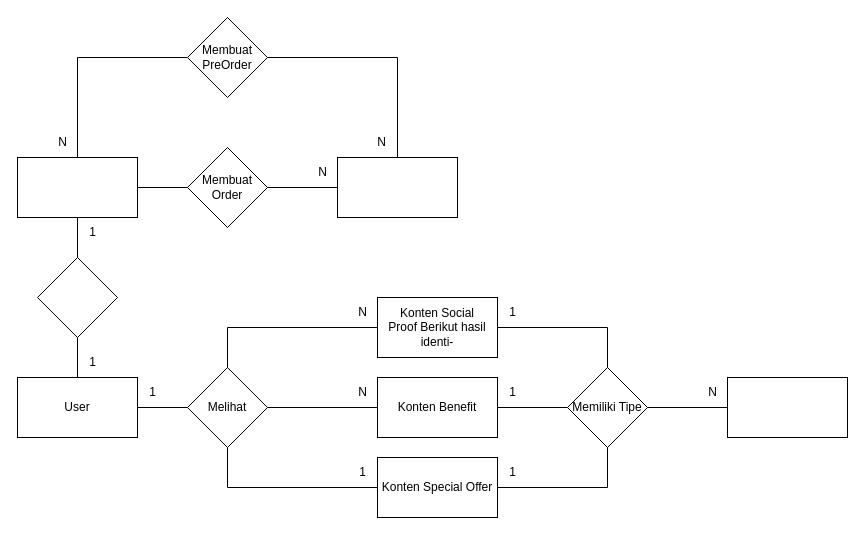
This 865x535 diagram has some shape labels left out. The centre of each missing label's shape, as x and y in pixels:
Jenis_Konten: (787,407)
Konsumen: (77,187)
Mempunyai: (77,297)
Stok: (397,187)
